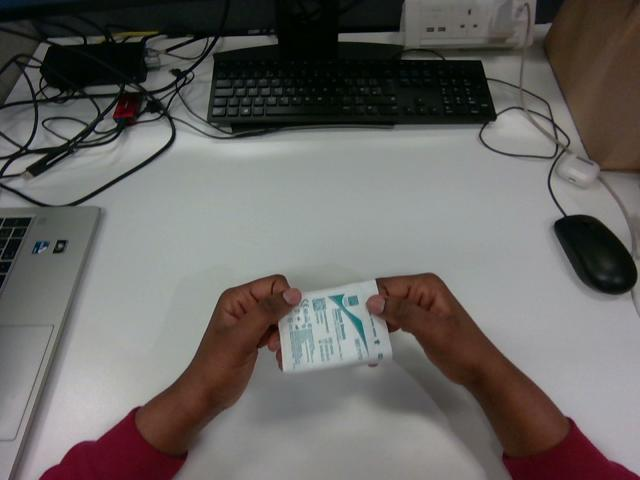gauze: (278, 280, 391, 371)
